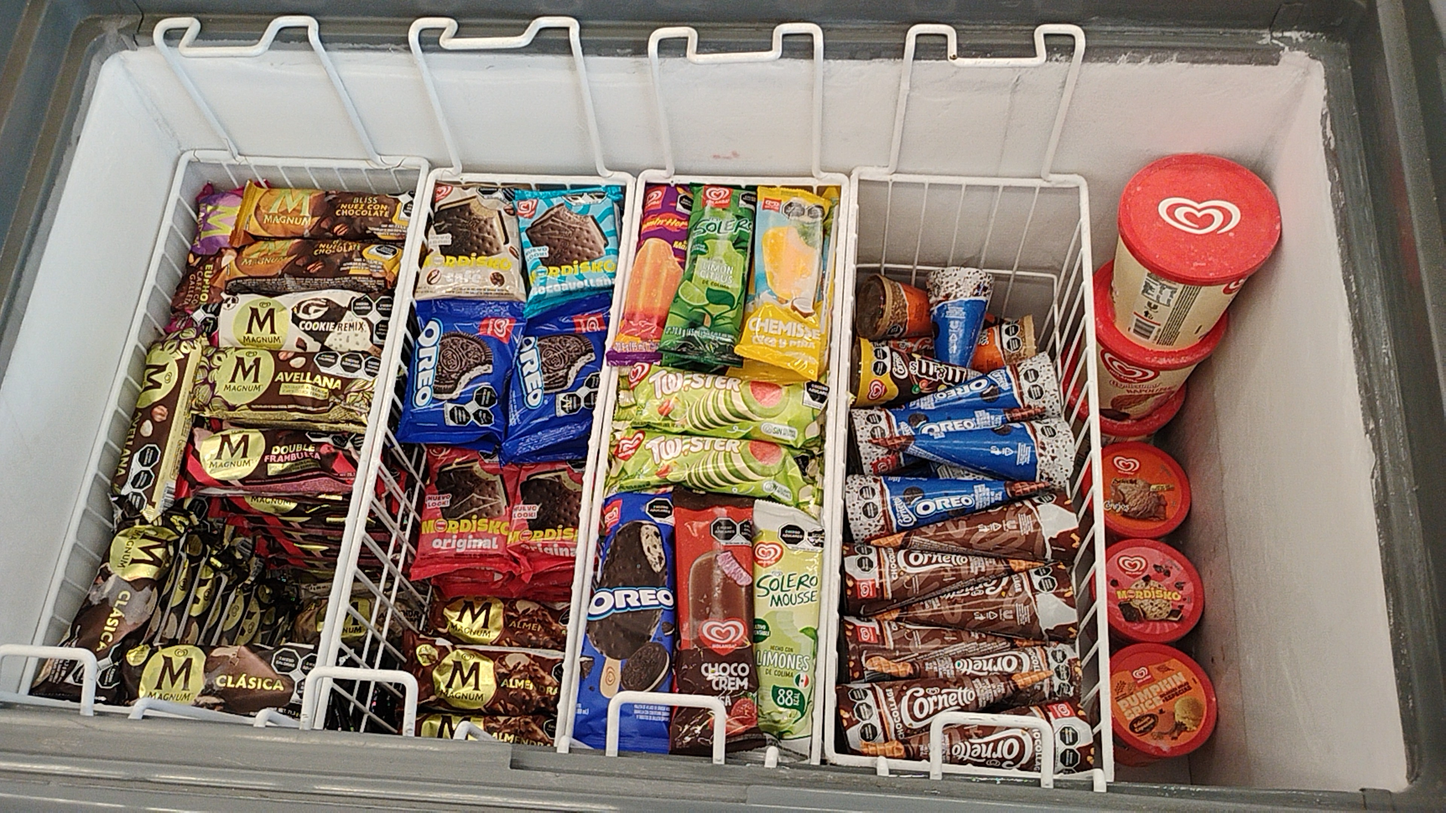rejilla: (33, 155, 192, 646), (317, 166, 428, 665), (327, 176, 435, 666), (555, 366, 610, 746), (813, 186, 849, 762), (1080, 185, 1113, 780), (825, 175, 853, 759), (576, 367, 618, 660), (606, 180, 635, 348), (620, 176, 646, 316), (852, 172, 1087, 185), (648, 176, 848, 185), (234, 156, 381, 168), (440, 174, 625, 183), (566, 659, 581, 736), (315, 677, 332, 729), (19, 657, 39, 694), (313, 678, 322, 717)
